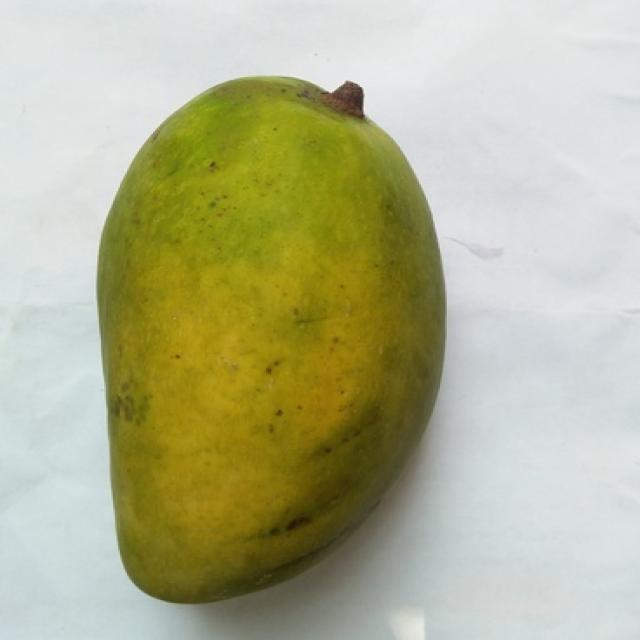Mango: (97, 77, 443, 602)
